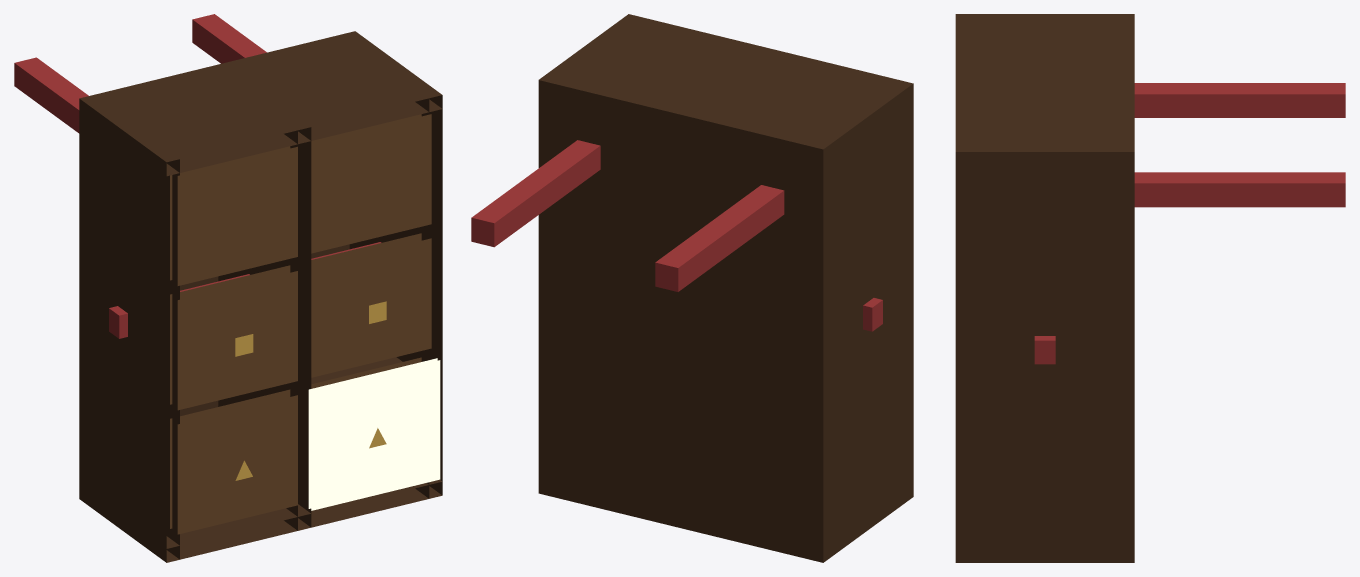
File: prop_yakjang_lod1.glb
3 renders of one model, left to right at view 1: azimuth 30°, elevation 25°; view 2: azimuth 150°, elevation 25°; view 3: azimuth 270°, elevation 25°, orthographic. The views are drawn at different scales.
Visible parts, largest first — view 1: prop_yakjang_lod1; view 2: prop_yakjang_lod1; view 3: prop_yakjang_lod1.
Boxes of the visible parts, x1=… form: prop_yakjang_lod1: x1=14, y1=14, x2=442, y2=562; prop_yakjang_lod1: x1=471, y1=14, x2=913, y2=562; prop_yakjang_lod1: x1=955, y1=14, x2=1345, y2=562.
Bounding box in the file's own units: 0.66 × 0.86 × 0.765.
